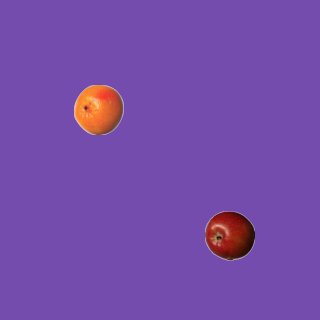Apple Braeburn: (204, 210, 254, 260)
Grapefruit Pink: (73, 84, 123, 134)
